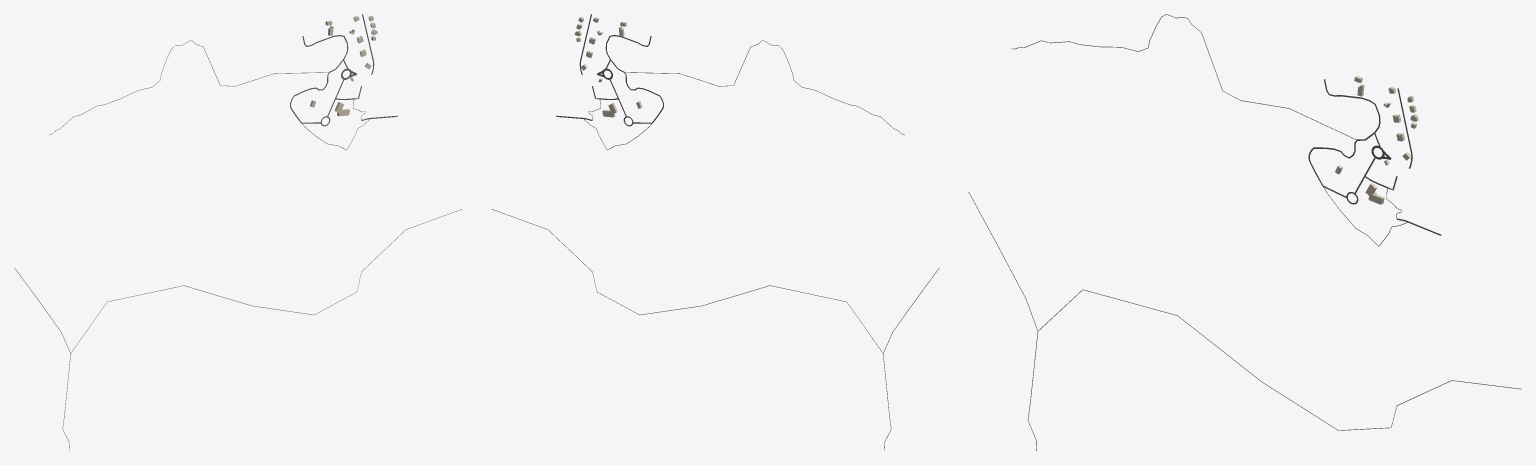
Rendered from historic-palestine-11_34_3528_3288.glb.
3 views of the same model, side by side, from view 1: azimuth 30°, elevation 25°; view 2: azimuth 150°, elevation 25°; view 3: azimuth 330°, elevation 25° (orthographic). The views are drawn at different scales.
Visible parts, largest first — view 1: Road .001; view 2: Road .001; view 3: Road .001.
Boxes of the visible parts, left/top/right/bottom form: Road .001: left=71, top=209, right=462, bottom=352; Road .001: left=491, top=209, right=882, bottom=352; Road .001: left=1038, top=289, right=1521, bottom=430.
Bounding box in the file's own units: 1279 × 1039 × 8.7.
